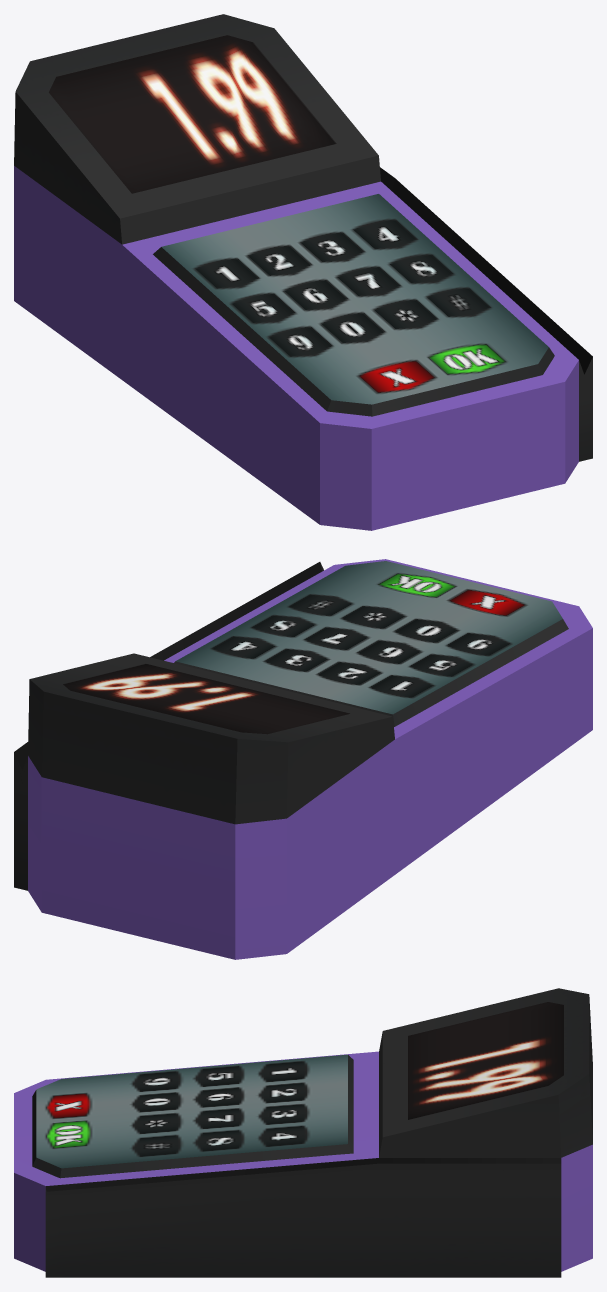
The model's file is Credit_Card_Machine_4.FBX.
3 renders of one model, top to bottom at view 1: azimuth 30°, elevation 25°; view 2: azimuth 150°, elevation 25°; view 3: azimuth 270°, elevation 25°, orthographic. The views are drawn at different scales.
Visible parts, largest first — view 1: Credit_Card_Machine; view 2: Credit_Card_Machine; view 3: Credit_Card_Machine.
Part boxes in pixels (x1,y1,x2,y2): Credit_Card_Machine: (14,14,592,530); Credit_Card_Machine: (14,559,592,959); Credit_Card_Machine: (14,988,592,1277).
Size of the model in its own units: 52.7 by 40.5 by 115.
